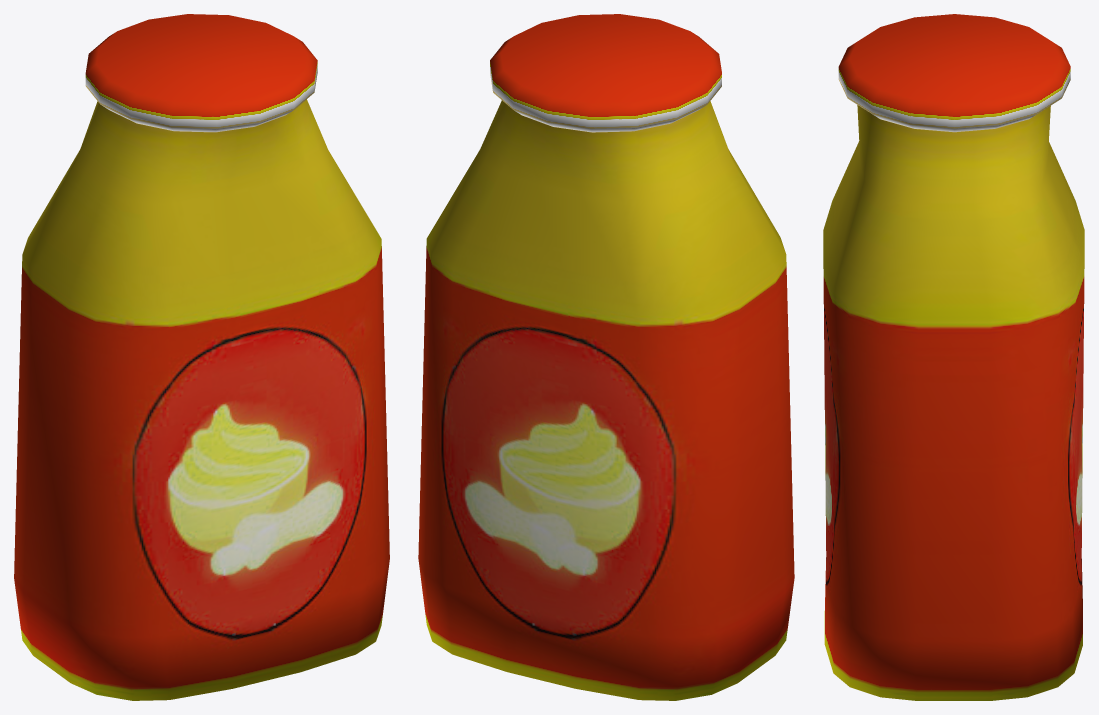
The picture shows the model from 3 angles, left to right: view 1: azimuth 30°, elevation 25°; view 2: azimuth 150°, elevation 25°; view 3: azimuth 270°, elevation 25°; orthographic projection.
Parts seen in each view (by area): view 1: 4-2; view 2: 4-2; view 3: 4-2.
Part boxes in pixels (x1,y1,x2,y2): 4-2: (14,14,389,700); 4-2: (418,14,794,700); 4-2: (823,14,1084,700).
Bounding box in the file's own units: 8.07 × 14.09 × 5.79.
